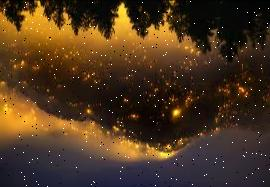fire: (1, 0, 260, 159)
